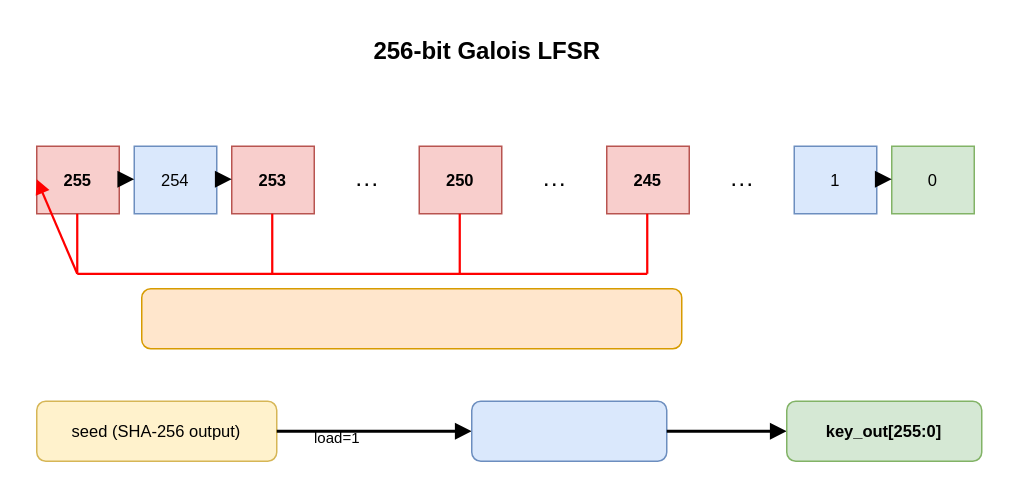
Some shapes in this 1010 by 488 pixel diagram are drawn without their labels. Each missing label, with the centre of its shape:
feedback = b[255] ⊕ b[253] ⊕ b[250] ⊕ b[245]: the point at 411,318
Run 256 cycles: the point at 568,430
